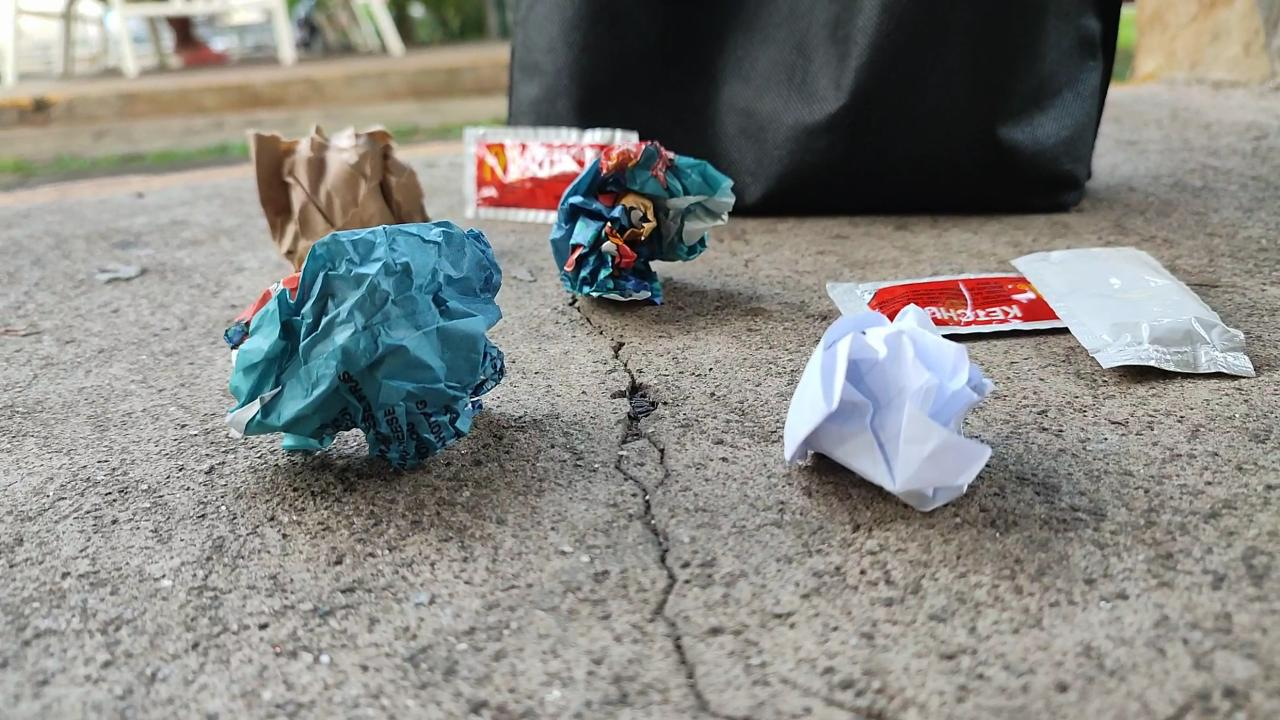Paper: (219, 210, 516, 484), (774, 294, 1009, 531), (544, 137, 748, 322), (232, 109, 430, 287)
